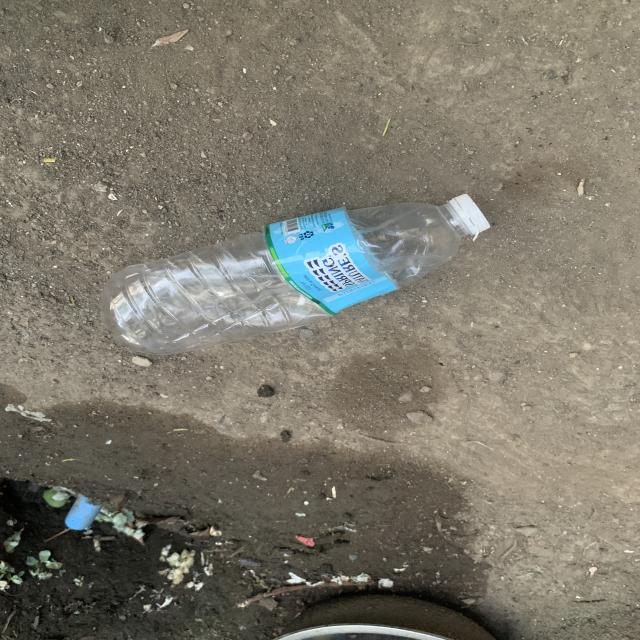Bottle: (100, 194, 489, 354)
